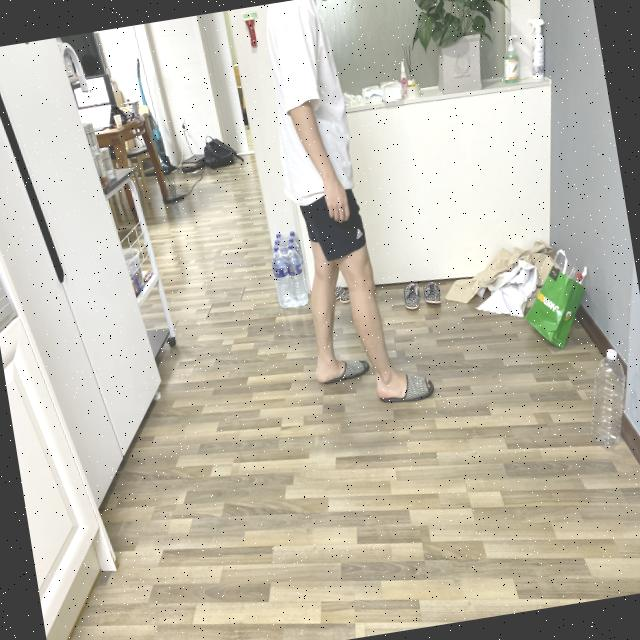no-boots: (368, 356, 449, 414), (298, 343, 373, 398)
